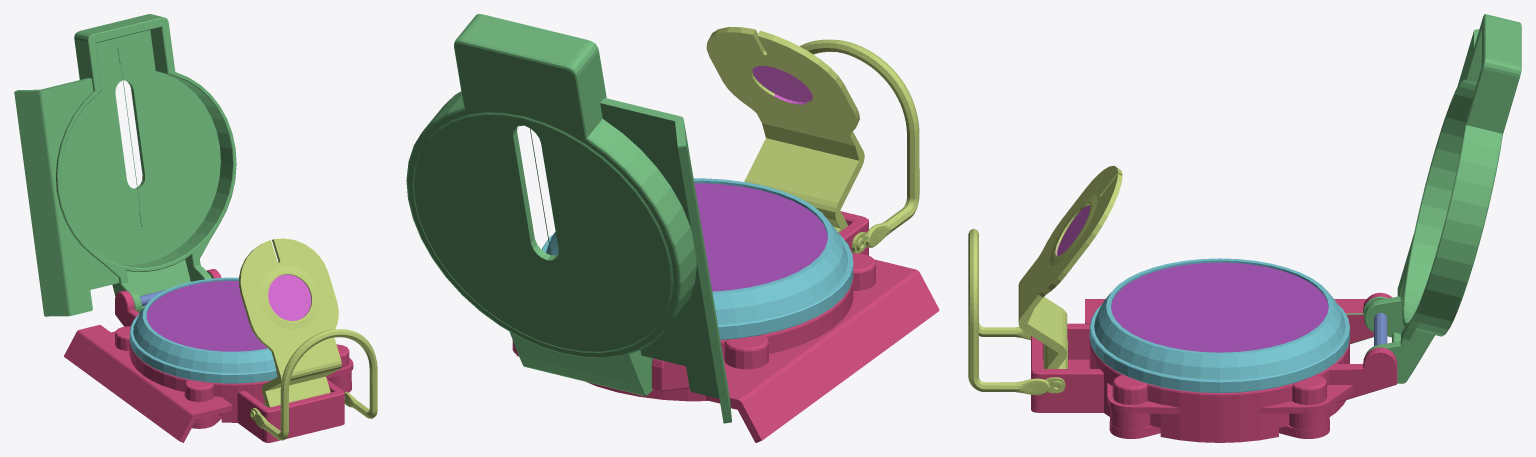
The picture shows the model from 3 angles, left to right: view 1: azimuth 30°, elevation 25°; view 2: azimuth 150°, elevation 25°; view 3: azimuth 270°, elevation 25°; orthographic projection. The views are drawn at different scales.
Parts seen in each view (by area): view 1: pred_mesh_gc.ply; view 2: pred_mesh_gc.ply; view 3: pred_mesh_gc.ply.
Boxes of the visible parts, left/top/right/bottom form: pred_mesh_gc.ply: left=14, top=14, right=377, bottom=442; pred_mesh_gc.ply: left=406, top=14, right=939, bottom=442; pred_mesh_gc.ply: left=968, top=14, right=1521, bottom=442.
Bounding box in the file's own units: 0.3887 × 0.5291 × 0.7543.
